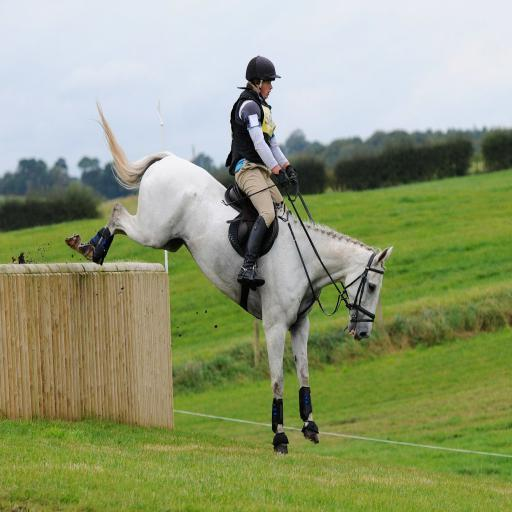horse: (64, 96, 392, 454)
